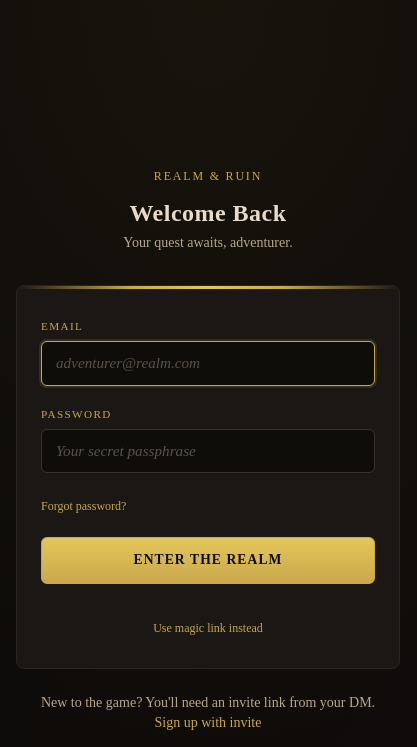
Test: LoginForm › magic link mode › toggles to magic link mode when clicking toggle
Expected: the password field with test id "password-input" is shown, [41,429,375,473]
# Click toggle to magic link
Click the button with test id "magic-link-toggle": (208, 628) [153,620,263,636]
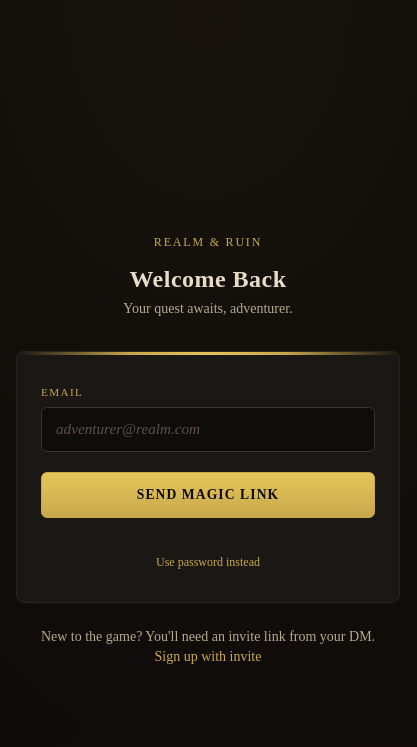
Expected: the password field with test id "password-input" is gone
Expected: the button with test id "magic-link-submit" is shown, [41,472,375,518]
